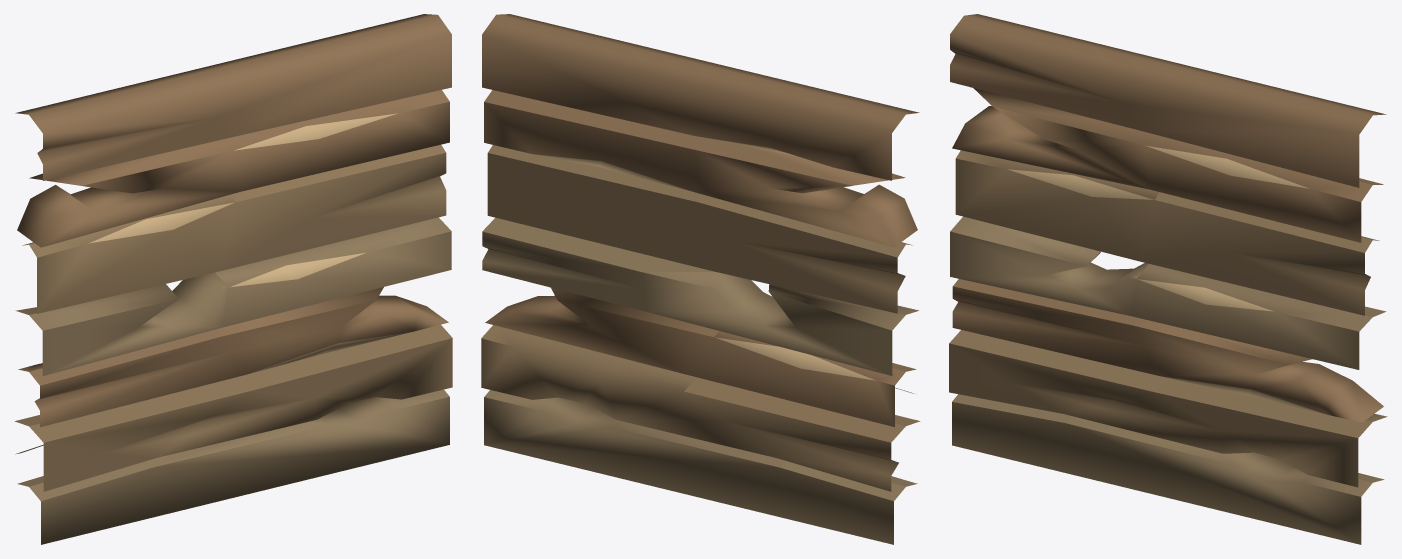
The model's file is rpgpp_av_wall_01_3x3_b.gltf.
The picture shows the model from 3 angles, left to right: view 1: azimuth 30°, elevation 25°; view 2: azimuth 150°, elevation 25°; view 3: azimuth 330°, elevation 25°; orthographic projection.
Parts seen in each view (by area): view 1: rpgpp_av_wall_01_3x3_b; view 2: rpgpp_av_wall_01_3x3_b; view 3: rpgpp_av_wall_01_3x3_b.
Boxes of the visible parts, <box> form: rpgpp_av_wall_01_3x3_b: <box>14,14,452,544</box>; rpgpp_av_wall_01_3x3_b: <box>481,14,920,544</box>; rpgpp_av_wall_01_3x3_b: <box>949,14,1387,544</box>.
Bounding box in the file's own units: 0.03 × 0.03 × 0.00378.
Materials: 1 (1 with a texture image).
